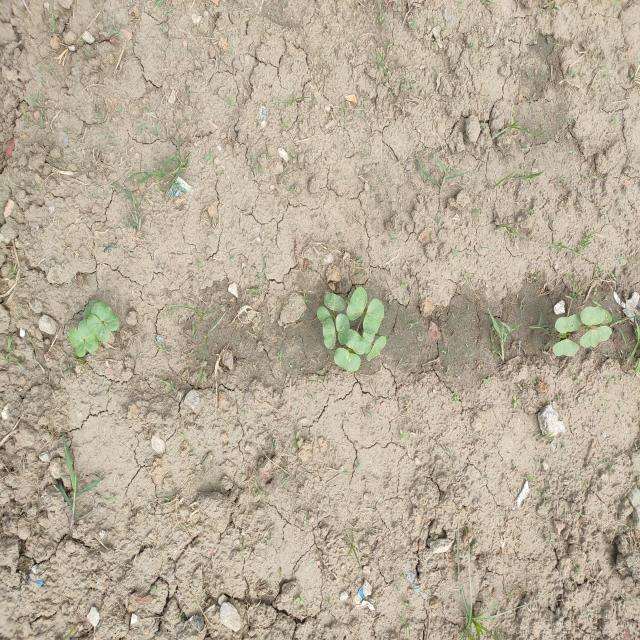seedling: (91, 302, 120, 331), (363, 299, 384, 335), (346, 287, 367, 320), (78, 319, 98, 353), (580, 306, 612, 327), (87, 314, 110, 343), (334, 347, 361, 371), (68, 328, 86, 358), (555, 315, 582, 334), (346, 329, 366, 354), (553, 338, 580, 356), (367, 336, 386, 361), (335, 314, 350, 345), (323, 317, 336, 350), (324, 293, 346, 311), (579, 330, 600, 348), (595, 325, 613, 341), (317, 306, 332, 325), (362, 331, 374, 354)
